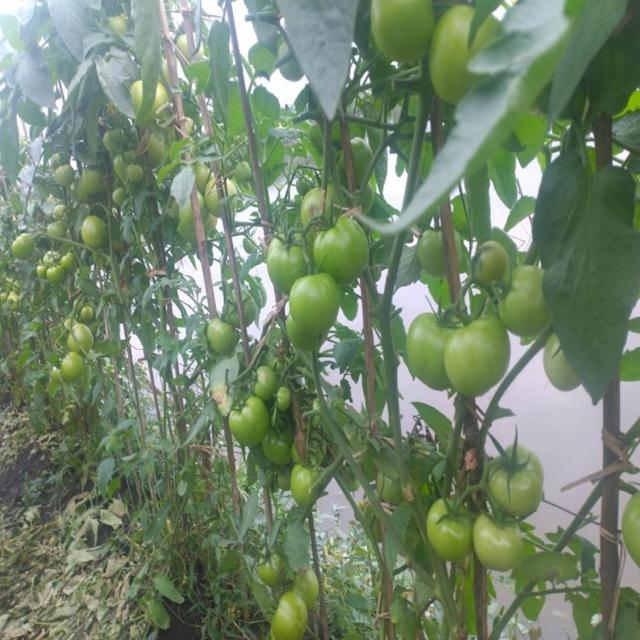tomato: (429, 7, 504, 104), (448, 313, 512, 395), (369, 1, 439, 66), (492, 440, 548, 517), (314, 218, 370, 283), (503, 265, 555, 334), (288, 273, 349, 330), (470, 508, 526, 568), (430, 488, 473, 564), (409, 309, 445, 391), (294, 185, 354, 226), (546, 339, 583, 402), (269, 231, 313, 283), (227, 393, 267, 450), (264, 591, 312, 638), (279, 316, 323, 360), (206, 317, 246, 363), (469, 235, 502, 288), (421, 229, 454, 278), (76, 163, 116, 202), (132, 81, 174, 118), (261, 423, 292, 473), (254, 549, 291, 587), (80, 211, 112, 254), (206, 175, 237, 219), (290, 568, 333, 599), (57, 353, 93, 388), (626, 485, 640, 570), (279, 46, 307, 88), (64, 325, 103, 354), (146, 133, 173, 173), (175, 34, 205, 70), (175, 192, 204, 227), (102, 125, 130, 159), (17, 231, 46, 263), (292, 467, 315, 507), (253, 364, 275, 403), (57, 160, 83, 192), (107, 182, 132, 213), (61, 245, 86, 270), (126, 161, 148, 188), (270, 387, 292, 413), (109, 158, 136, 179), (189, 160, 212, 182), (106, 17, 130, 38), (77, 309, 101, 328), (44, 221, 66, 240), (45, 245, 66, 264), (51, 198, 72, 217), (51, 266, 70, 286), (34, 262, 55, 280), (237, 156, 246, 188), (57, 321, 72, 338)
